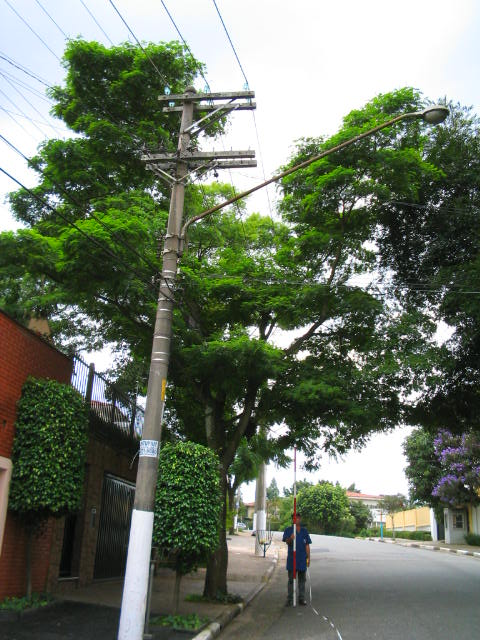crown: (8, 37, 442, 459)
stem: (192, 476, 243, 600)
stick: (285, 445, 301, 605)
tree: (4, 35, 443, 601)
